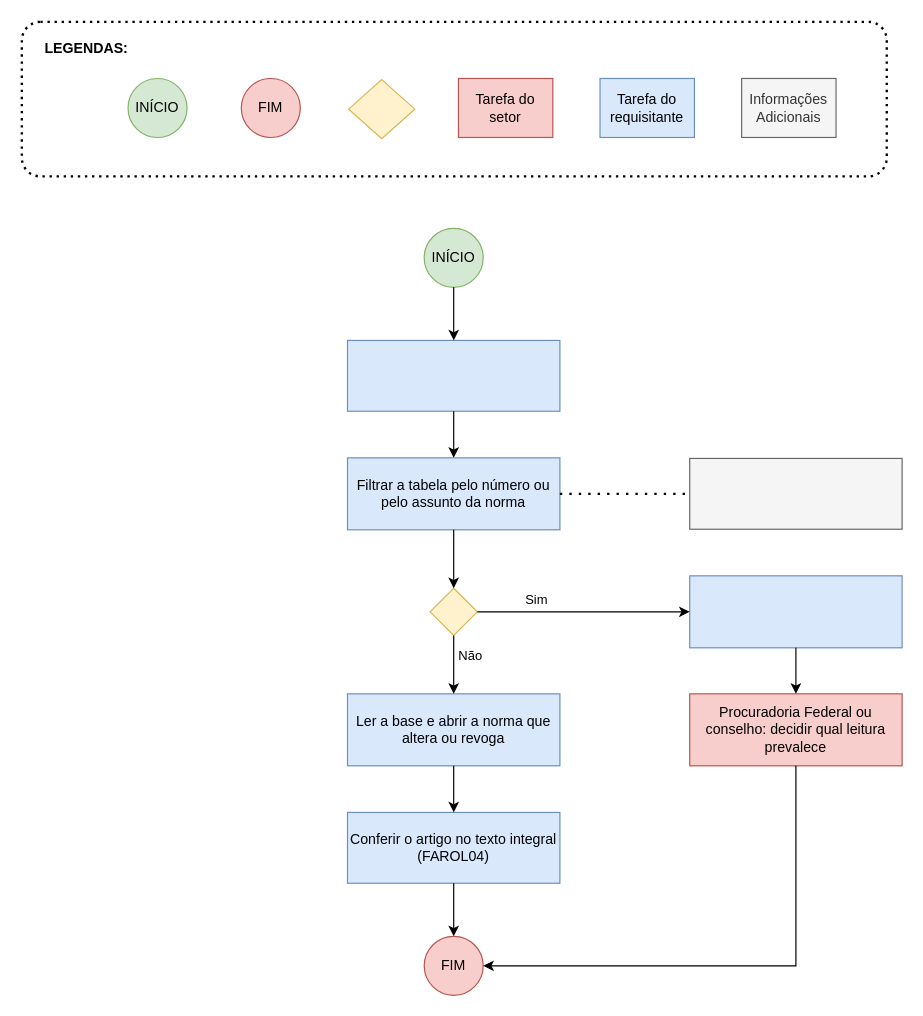
Image size: 923x1016. Some labels were removed from this diagram. The shapes that lost their labels are listed below. From the top down, each one's box as (x1, y1, x2, y2) in pixels, then its label:
(348, 78, 415, 139): SE
(346, 339, 560, 411): Abrir Vigência no menu
(689, 457, 902, 529): Clique no título da coluna para ordenar
(429, 587, 477, 635): Em conflito ou a verificar?
(689, 575, 902, 648): Ler as leituras e as fontes em Divergências (FAROL09)
